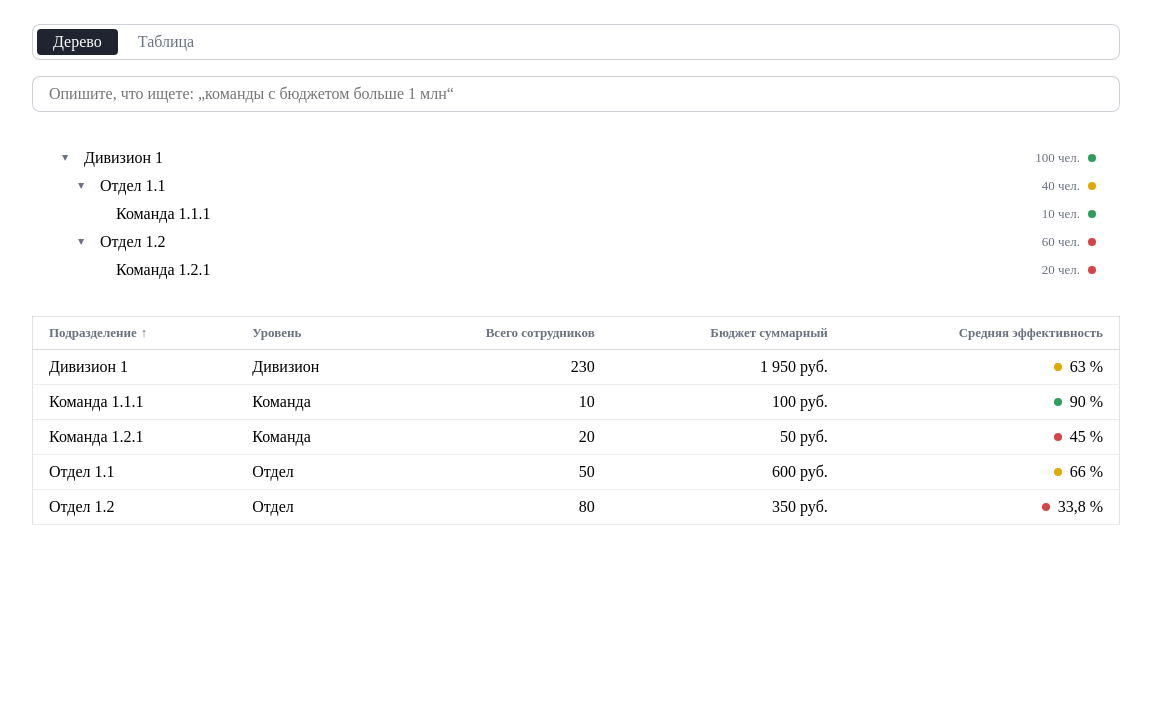
Test: OrgDashboard AI-поиск › нераспознанный запрос — подпись «обычный поиск», прежний текстовый путь
This screenshot has width=1152, height=720.
Type "1.1" into the search field named "Фильтр по названию". click: (576, 94)
box: [32, 76, 1120, 112]
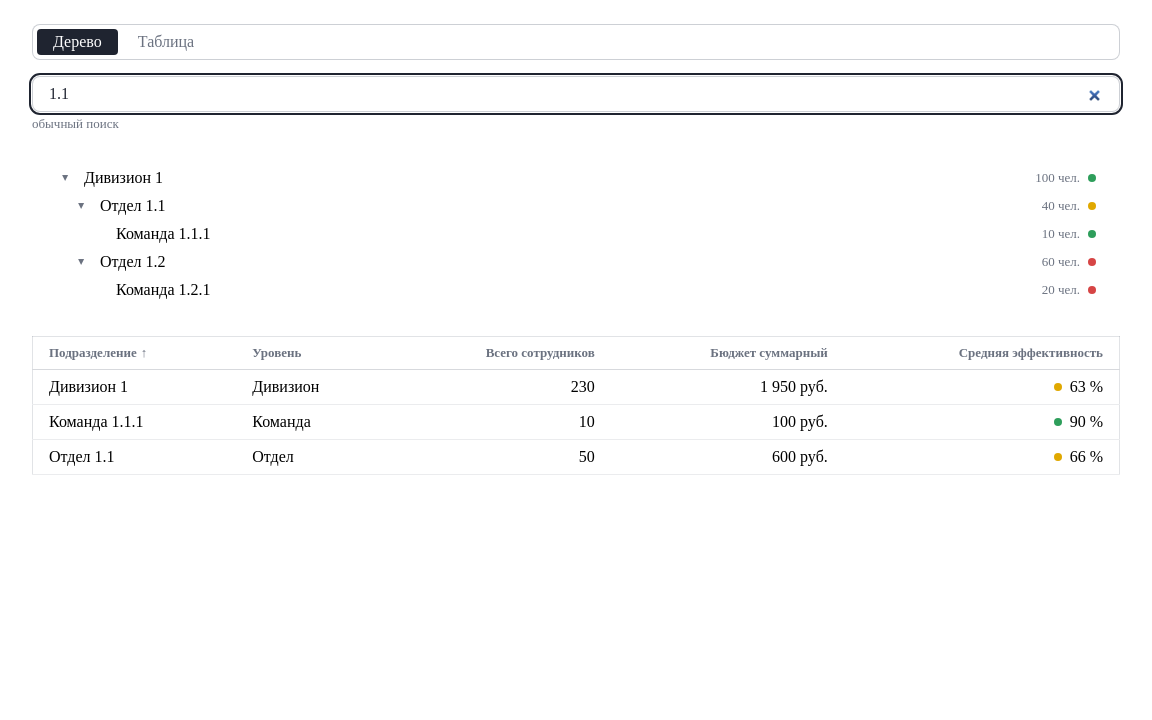
expect the text "обычный поиск" is shown: met, box [32, 116, 119, 131]
